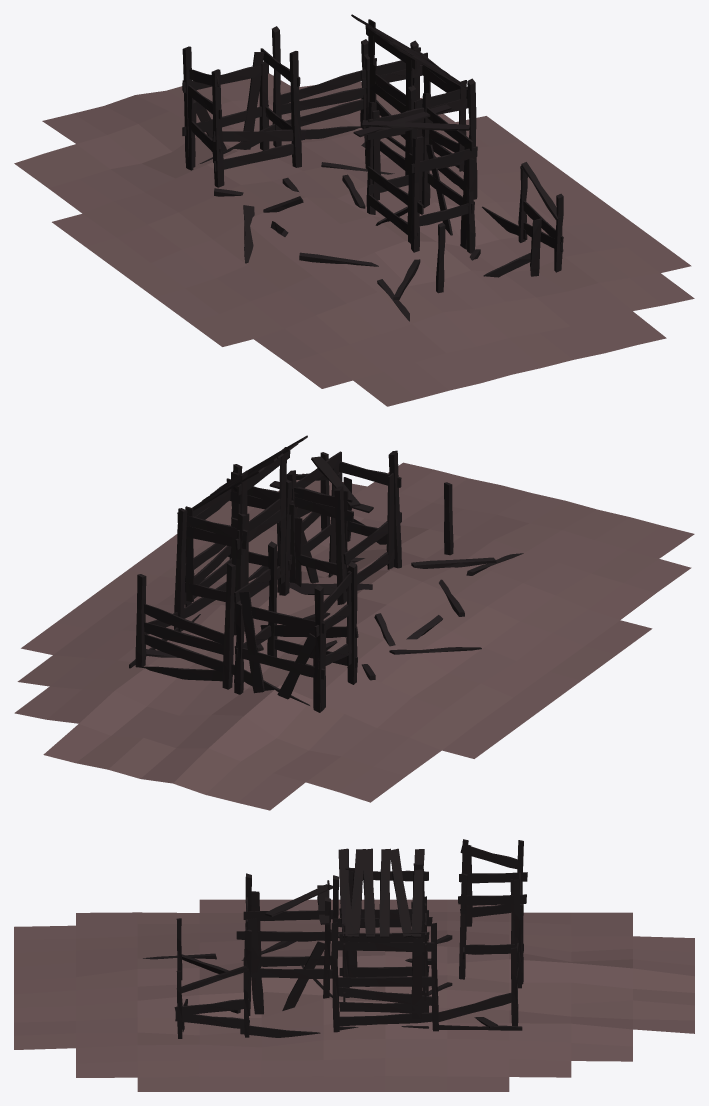
The model's file is BurntHouseAsset 1.fbx.
3 views of the same model, one above another, from view 1: azimuth 30°, elevation 25°; view 2: azimuth 150°, elevation 25°; view 3: azimuth 270°, elevation 25° (orthographic). The views are drawn at different scales.
Parts seen in each view (by area): view 1: BurntHouse; view 2: BurntHouse; view 3: BurntHouse.
Part boxes in pixels (<box>): BurntHouse: <box>14,14,694,406</box>; BurntHouse: <box>14,435,694,810</box>; BurntHouse: <box>14,839,694,1091</box>.
Bounding box in the file's own units: 3663 × 1461 × 5488.
